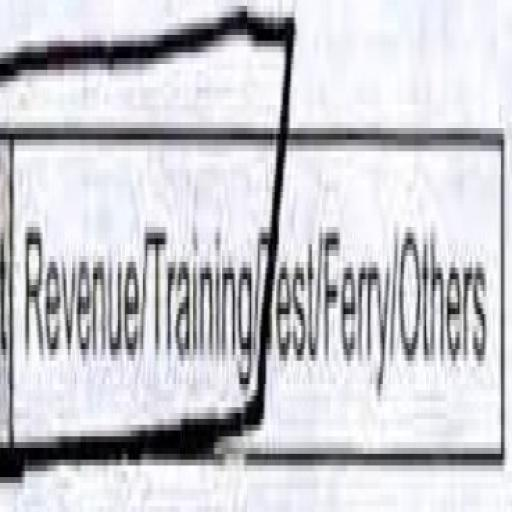check: (0, 0, 140, 512), (145, 0, 259, 512)
